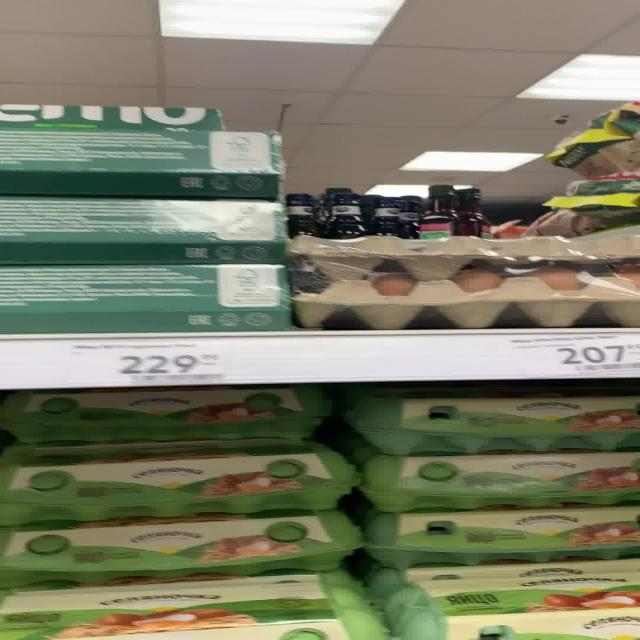egg box: (2, 452, 357, 521), (0, 520, 364, 582), (7, 586, 395, 636), (358, 386, 635, 454), (5, 389, 329, 445), (367, 456, 637, 511), (366, 512, 634, 565)
